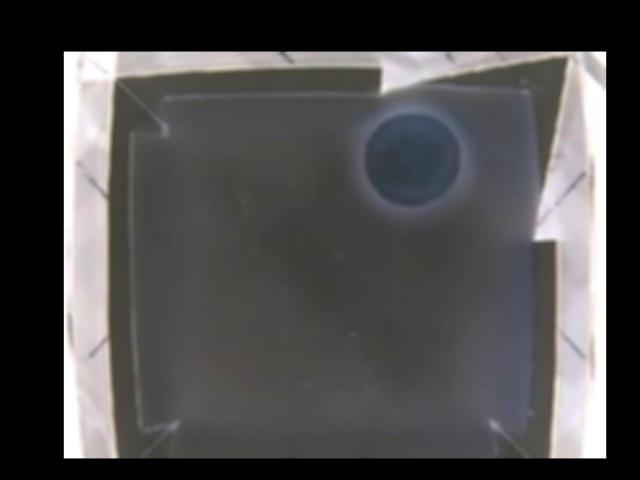Mooli: (366, 113, 464, 209)
